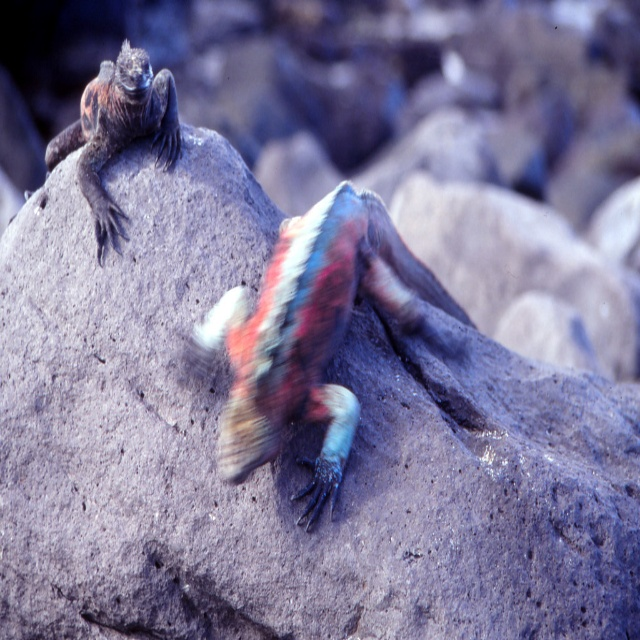Lizard: (186, 188, 490, 487), (48, 30, 180, 292)
